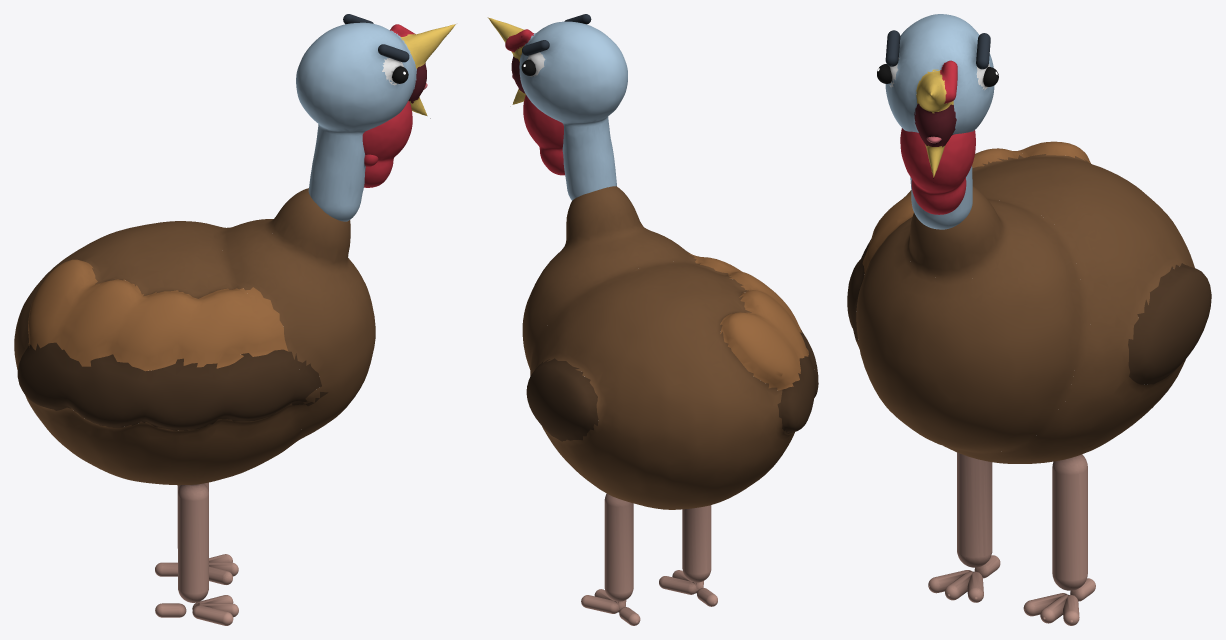
File: vilka-papper-behover-jag.glb
3 views of the same model, side by side, from view 1: azimuth 30°, elevation 25°; view 2: azimuth 150°, elevation 25°; view 3: azimuth 270°, elevation 25° (orthographic). The views are drawn at different scales.
Parts seen in each view (by area): view 1: peru__r0, cabeca__r0, peru__r1, papo__r0; view 2: peru__r0, cabeca__r0, peru__r6, peru__r1, papo__r0, peru__r4, peru__r9; view 3: peru__r0, cabeca__r0, peru__r6, papo__r0, peru__r1.
Boxes of the visible parts, x1,y1,x2,y2 form: peru__r0: (14, 188, 375, 485); cabeca__r0: (296, 22, 455, 221); peru__r1: (178, 483, 208, 602); papo__r0: (362, 101, 412, 187); peru__r0: (522, 186, 818, 509); cabeca__r0: (487, 17, 627, 200); peru__r6: (604, 493, 633, 601); peru__r1: (682, 505, 711, 582); papo__r0: (523, 95, 564, 175); peru__r4: (659, 576, 696, 594); peru__r9: (581, 595, 618, 613); peru__r0: (847, 141, 1211, 463); cabeca__r0: (885, 14, 994, 229); peru__r6: (1052, 454, 1087, 590); papo__r0: (900, 128, 975, 214); peru__r1: (957, 452, 992, 567).
Size of the model in its own units: 1.89 by 2.63 by 1.35.
